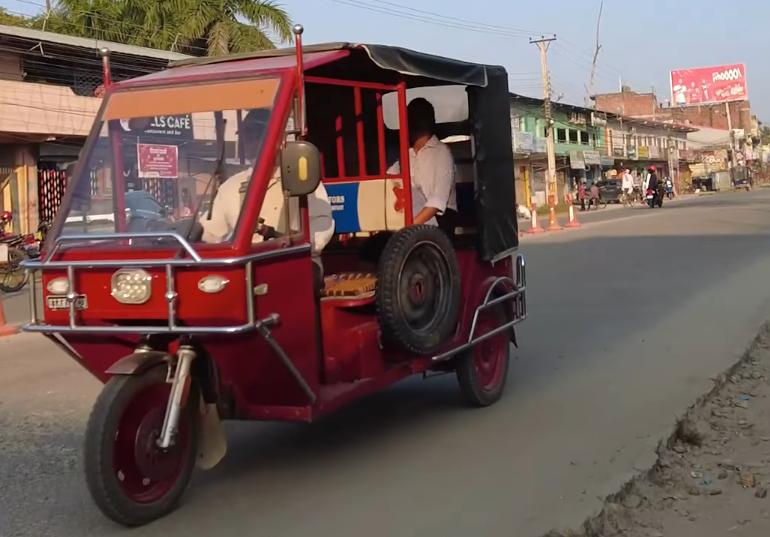e-rickshaw: (22, 35, 534, 537)
